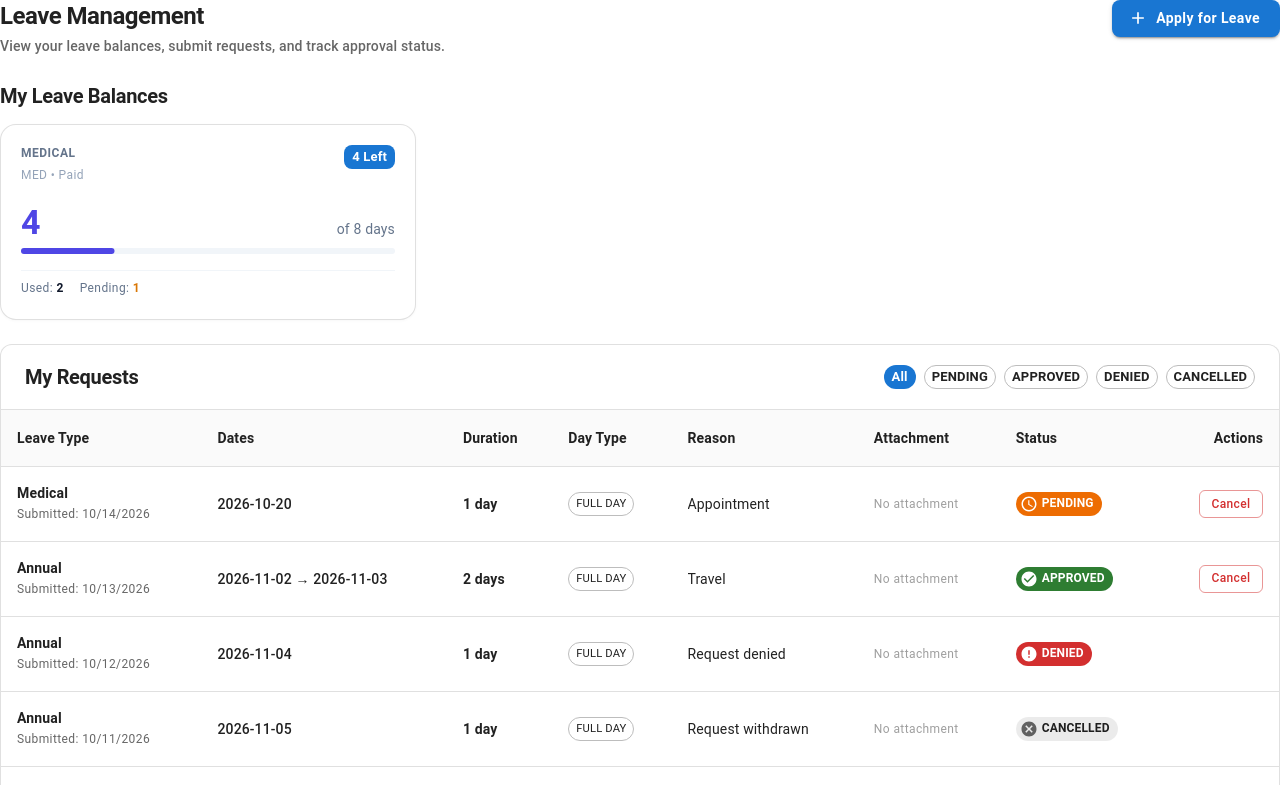
Test: submits an eligible leave request with a supporting document link
Check: the text "4 Left" is shown, box [352,149,387,164]
Click the button "Apply for Leave". click: (1196, 18)
box: [1112,0,1279,36]
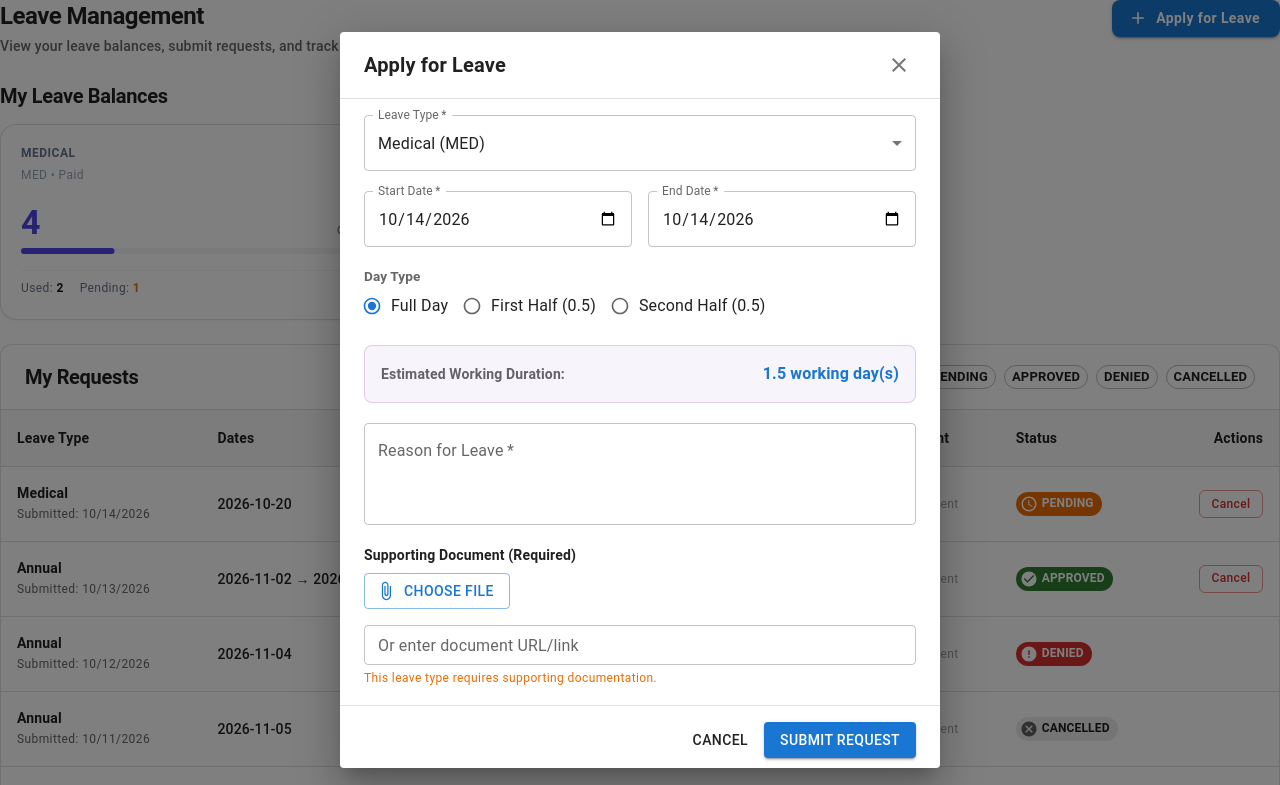
Type "Medical appointment" into the text box labelled "Reason for Leave". click: (640, 474)
box: [378,439,902,508]
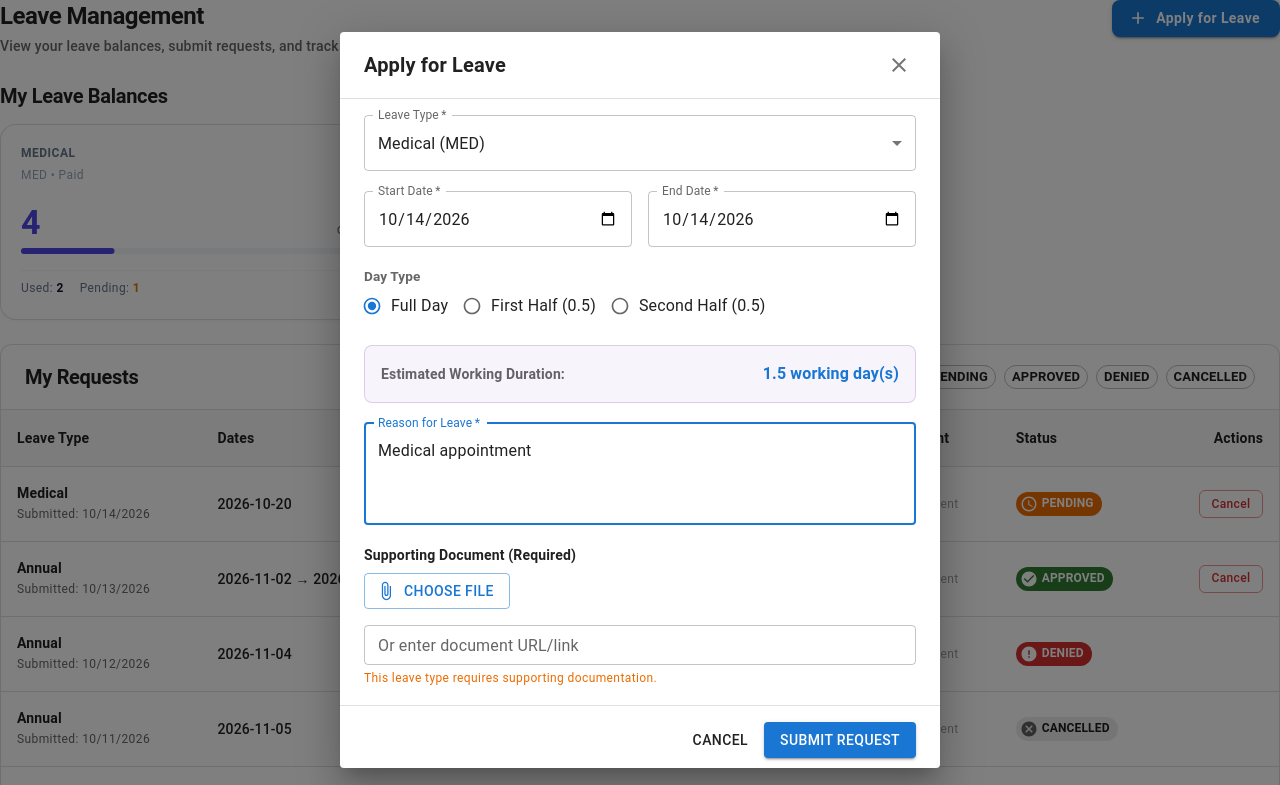
Type "https://files.example.test/doctor-note.pdf" into the field labelled "Or enter document URL/link". click: (640, 645)
box: [364,625,916,665]
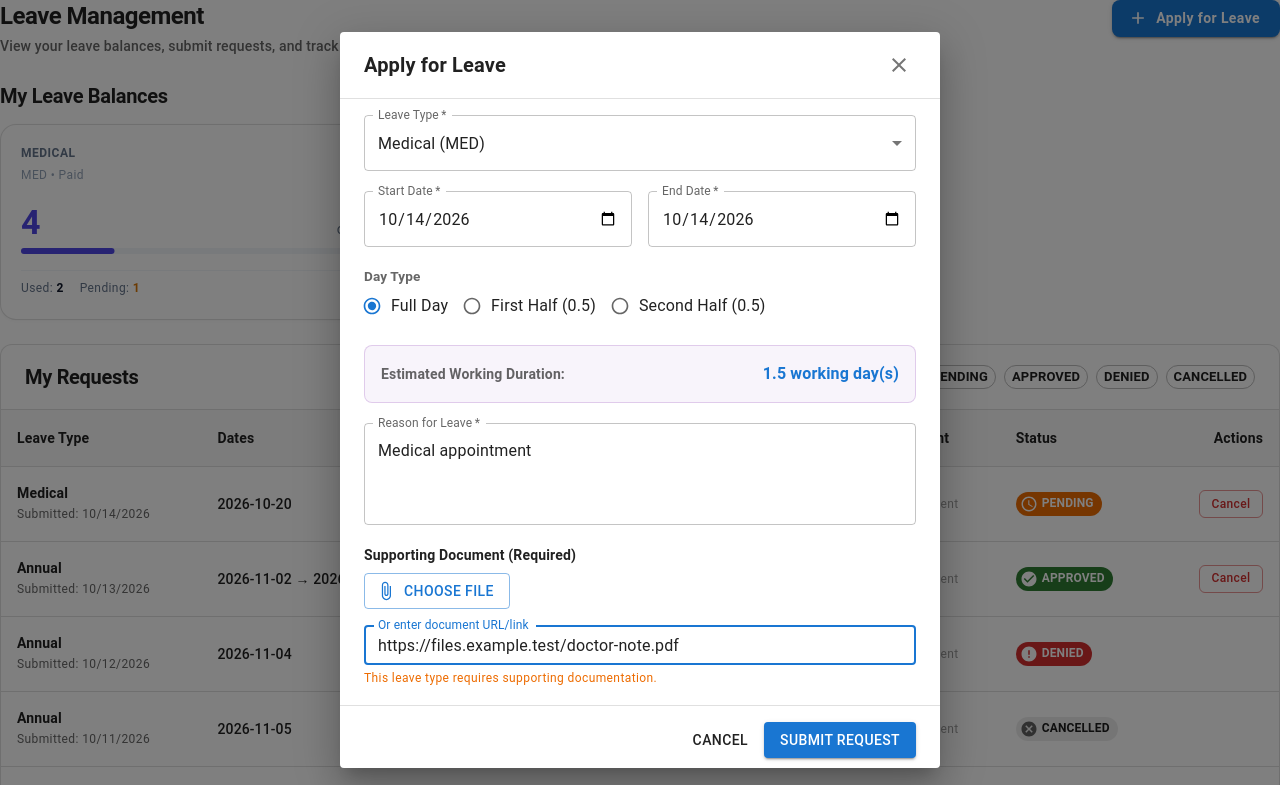
Click the button "Submit Request". click: (840, 740)
box: [764,722,916,758]
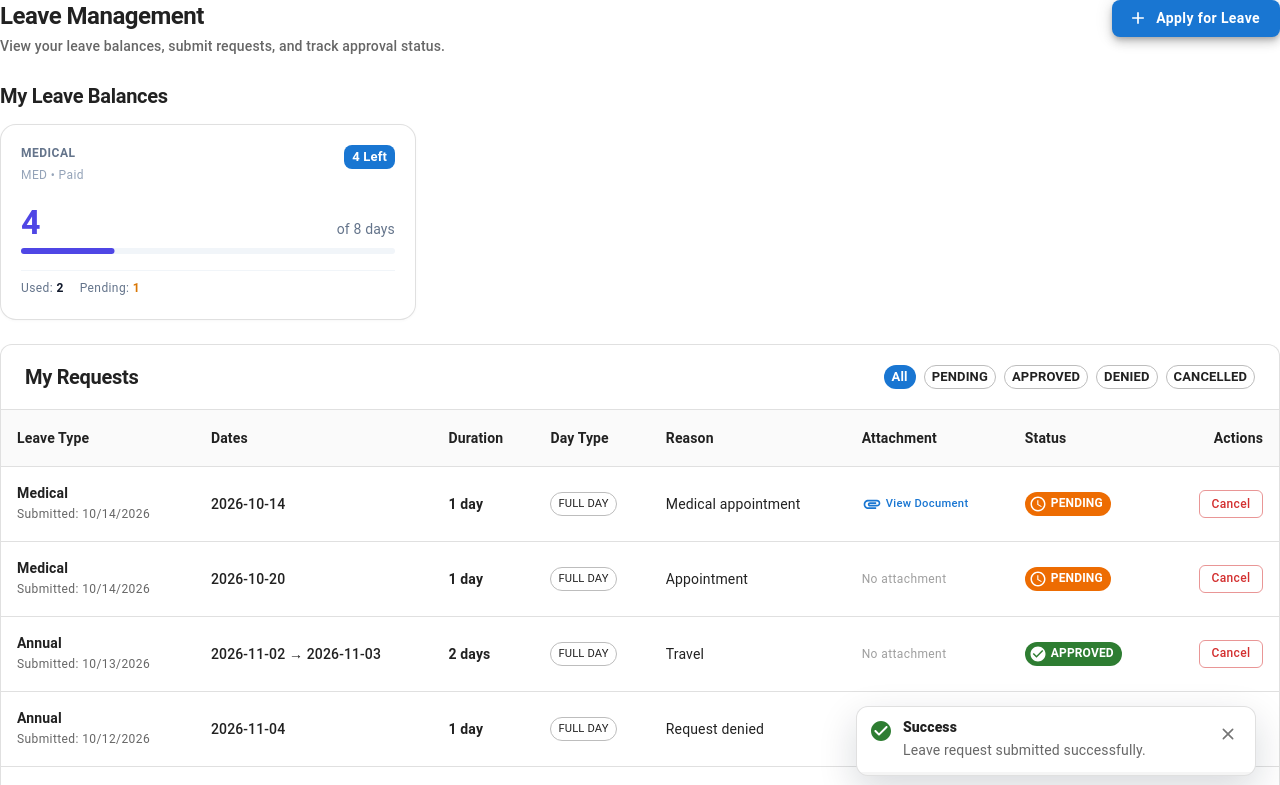
Check: the text "Leave request submitted successfully." is shown, box [903,742,1146,758]
Check: the text "Medical appointment" is shown, box [666,496,800,512]
